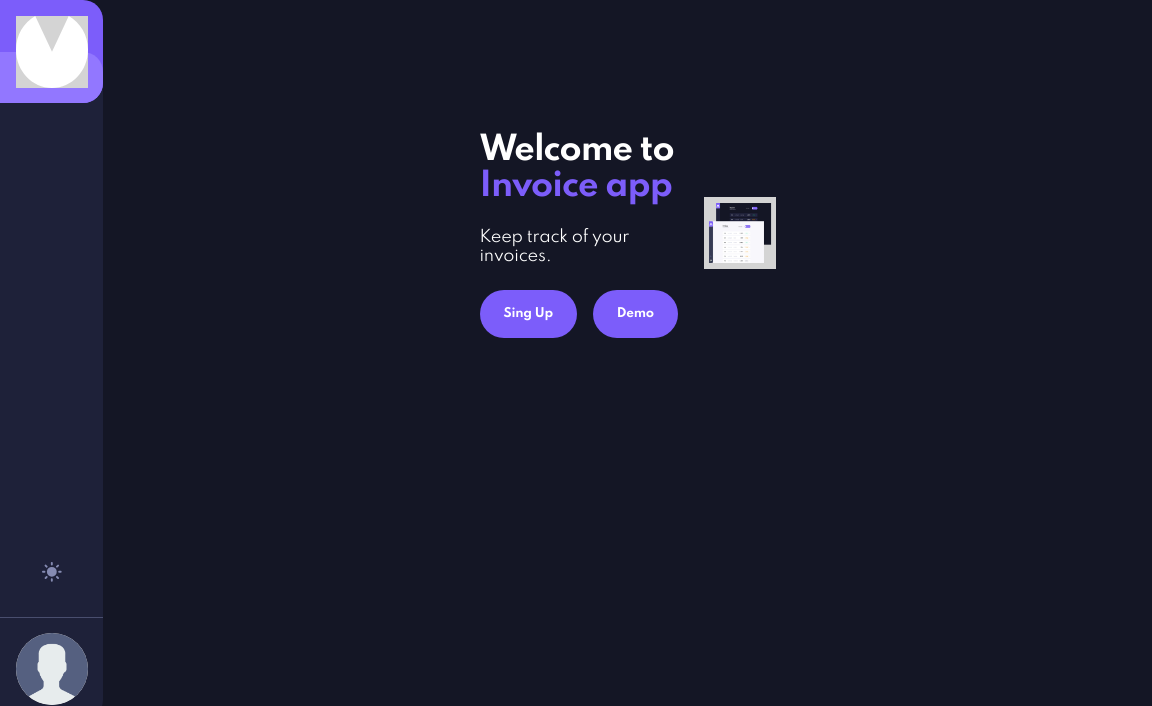
Test: demo mode › should edit invoice
Click the button "Demo" at {"x": 636, "y": 314}, box [593,290,678,338]
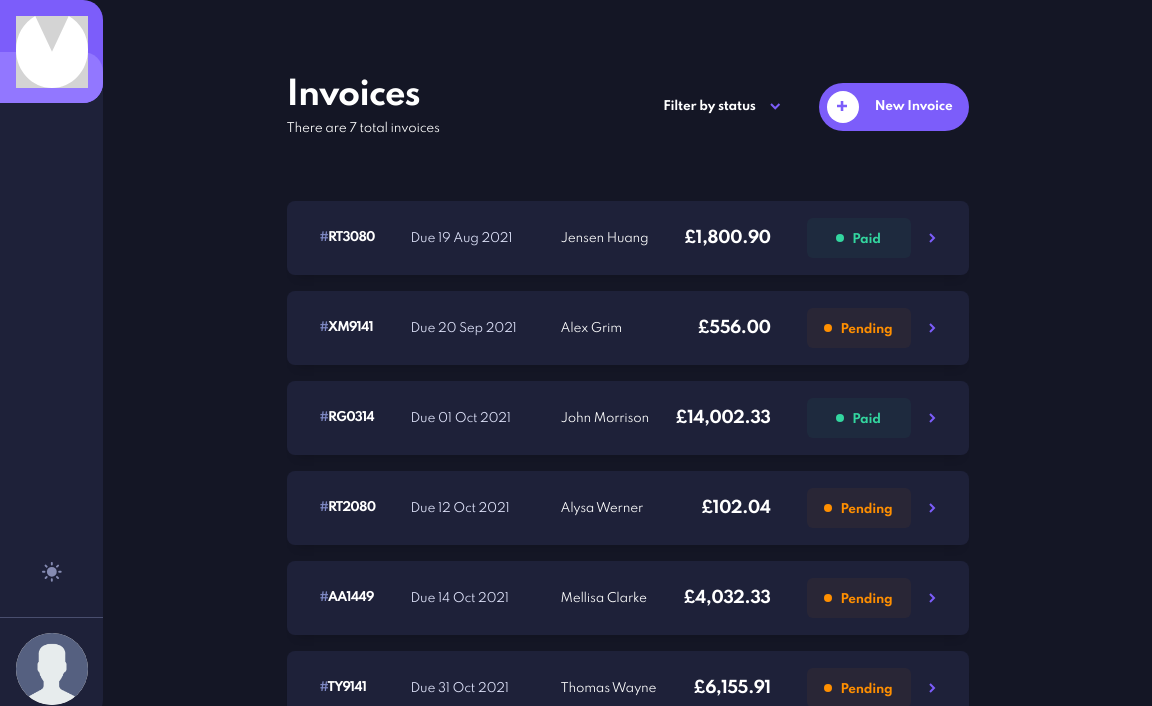
Click the text "Alex Grim" at {"x": 592, "y": 329}, box [561,321,622,336]
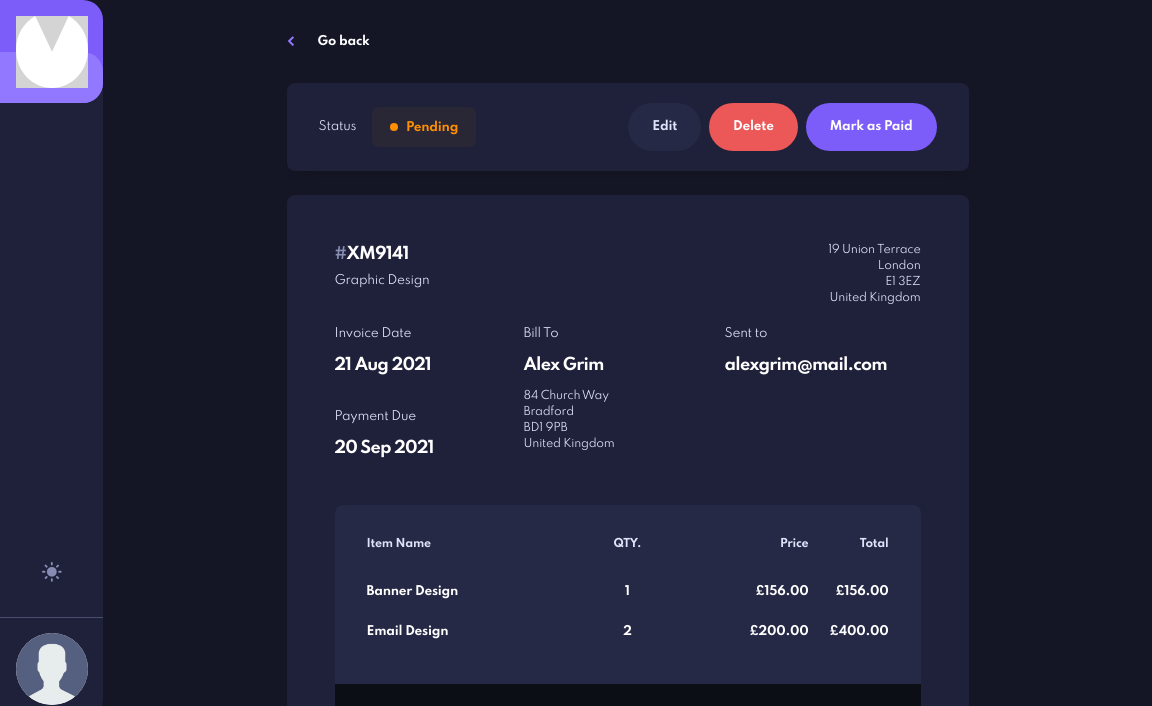
Click the button "Edit" at {"x": 665, "y": 127}, box [628,103,701,151]
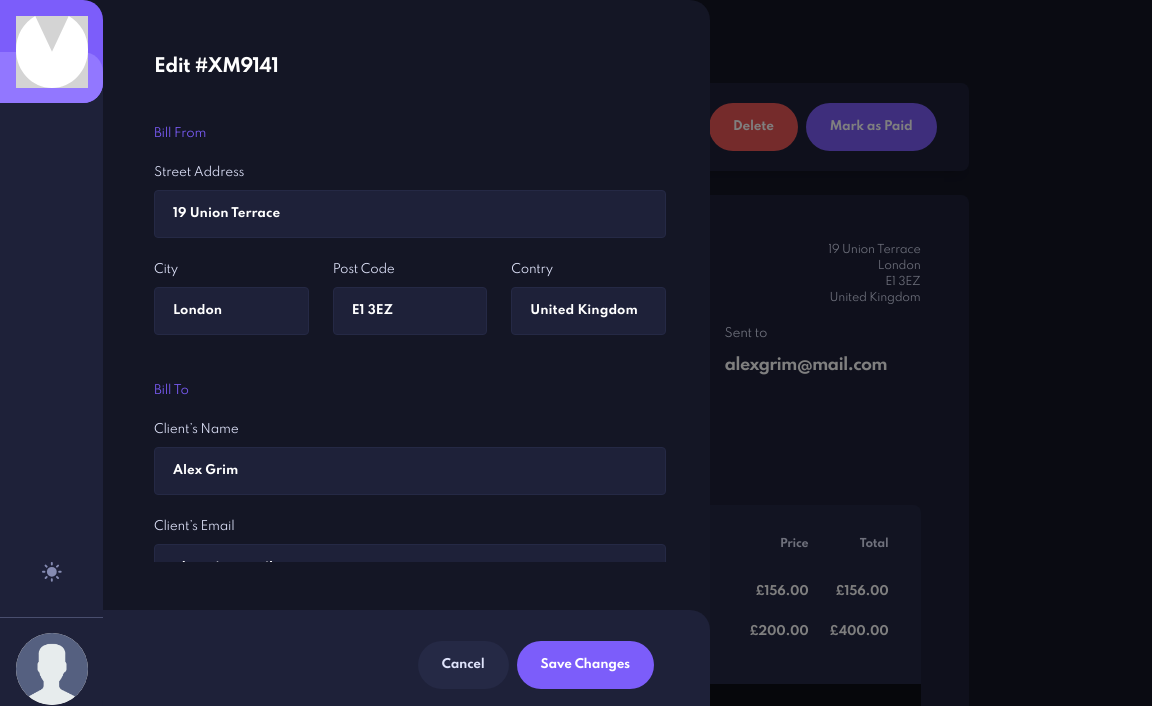
Scroll
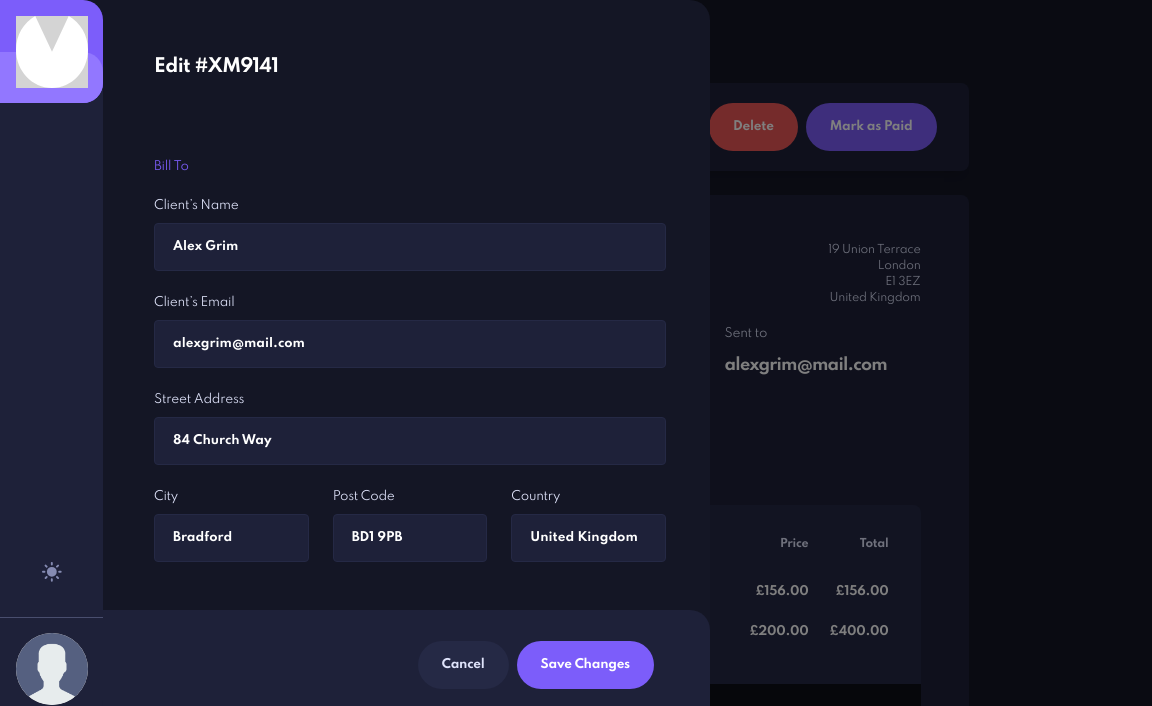
Replace the text in the field named "clientemail" with "test@test.com" at {"x": 410, "y": 344}, box [154,320,666,368]
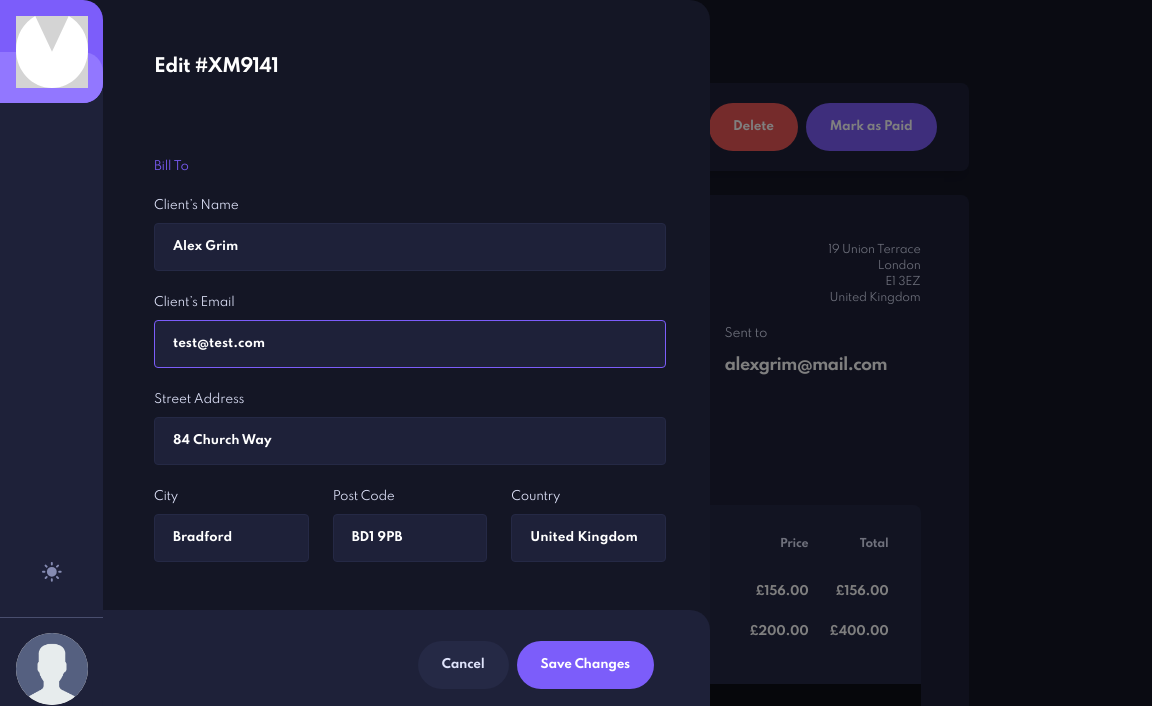
Click the button "Save Changes" at {"x": 586, "y": 665}, box [517,641,654,689]
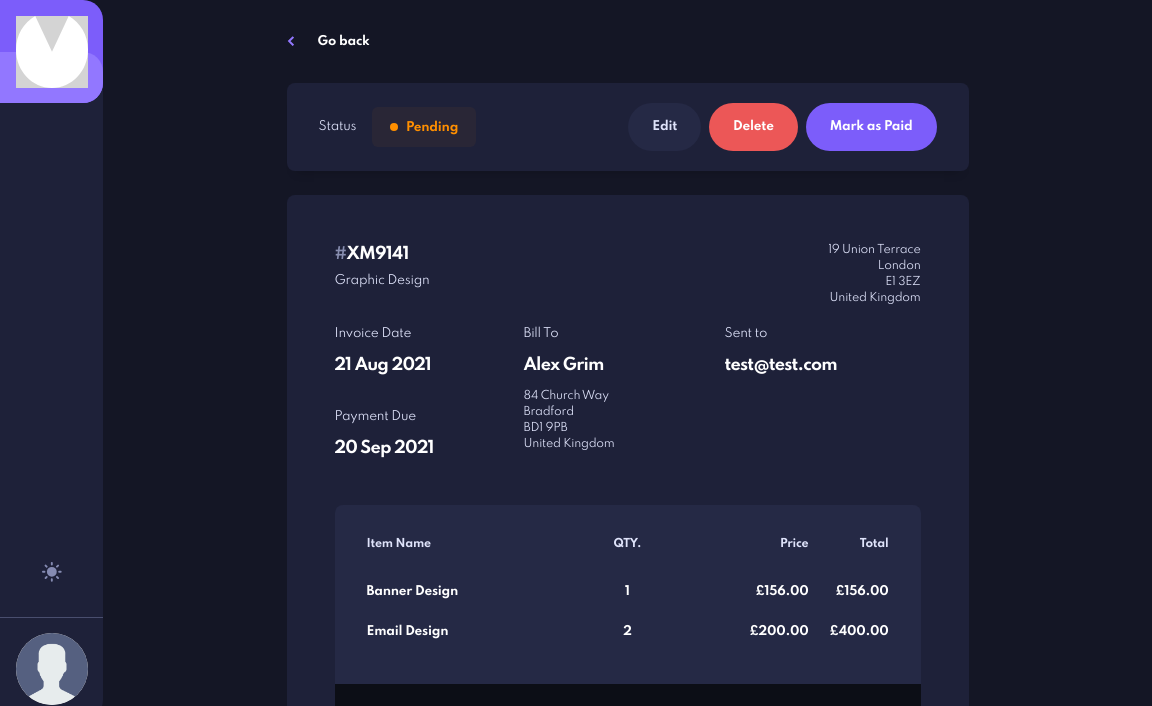
Now the heading "test@test.com" is shown, box [724,352,837,376]
